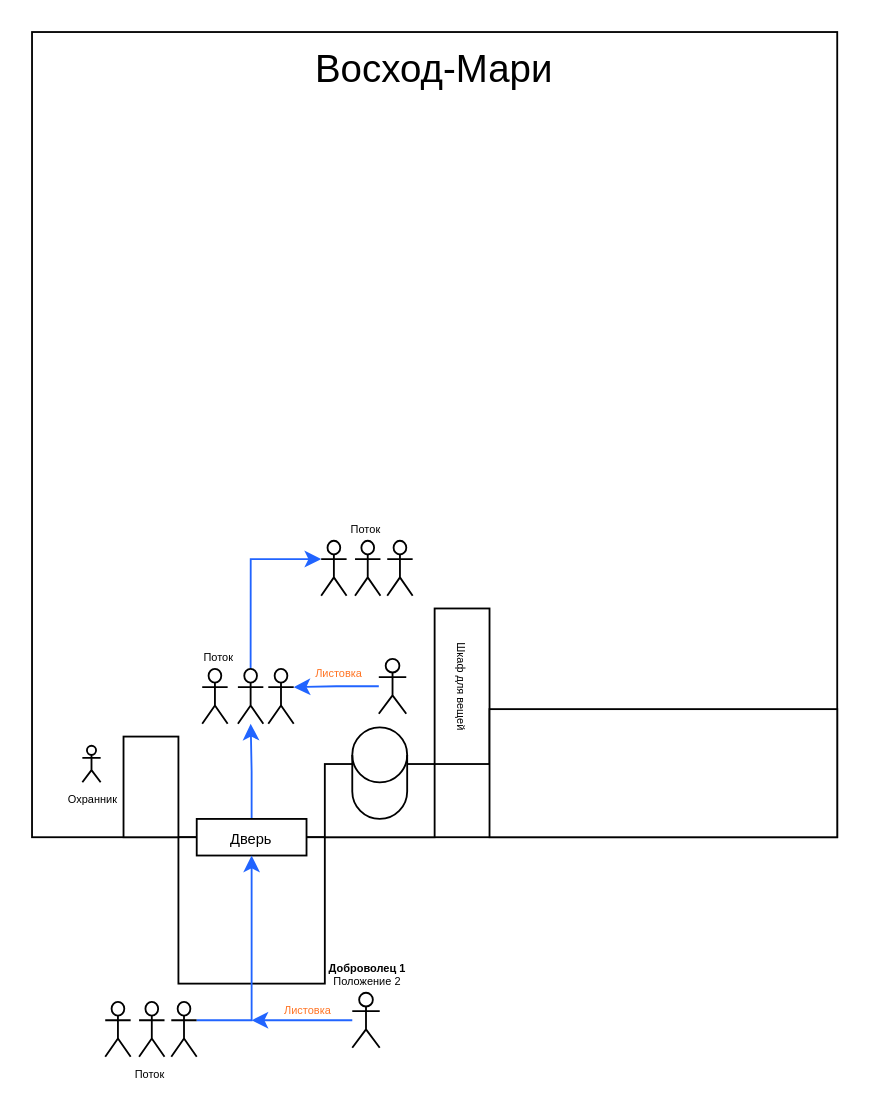
Some shapes in this 869 by 1114 pixel diagram are drawn without their labels. Each missing label, with the centre of its shape:
Доброволец 1 Положение 1: point 391,685
коробка: point 378,772
Прилавок: point 662,772
